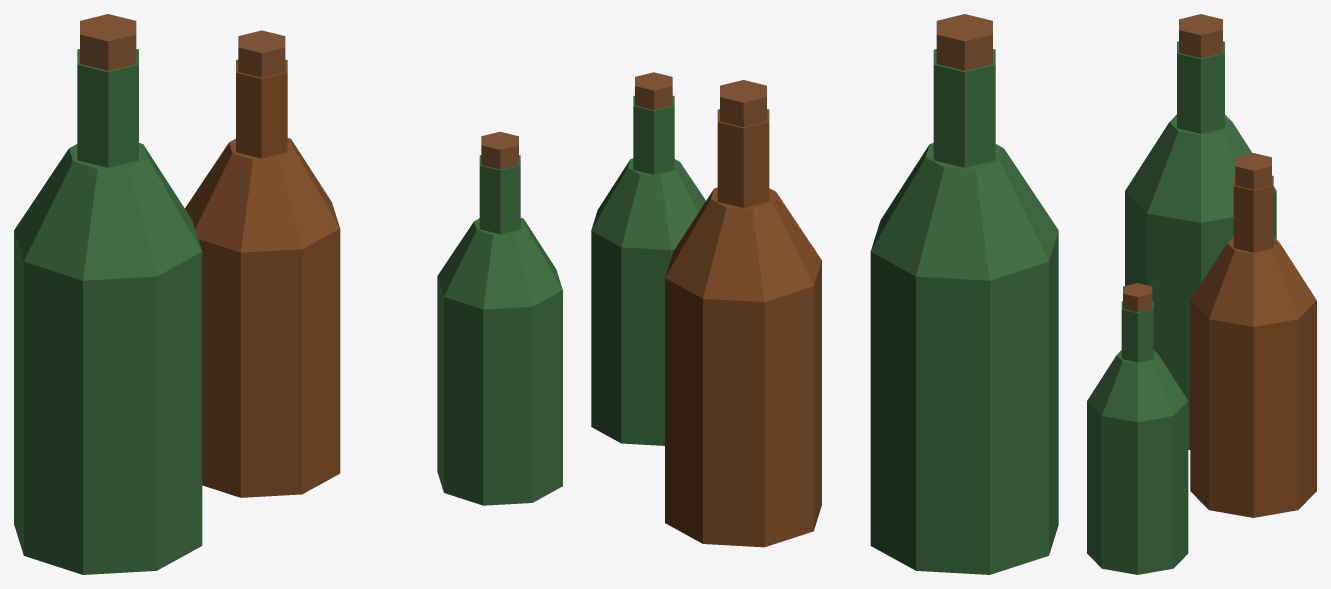
The model's file is Bottles.fbx.
3 views of the same model, side by side, from view 1: azimuth 30°, elevation 25°; view 2: azimuth 150°, elevation 25°; view 3: azimuth 270°, elevation 25° (orthographic). The views are drawn at different scales.
Visible parts, largest first — view 1: Bottles; view 2: Bottles; view 3: Bottles.
Part boxes in pixels (box(x1,y1,x2,y2)): Bottles: box(14, 14, 562, 574); Bottles: box(591, 14, 1058, 574); Bottles: box(1087, 14, 1316, 574).
Size of the model in its own units: 0.42 by 0.414 by 0.218.
